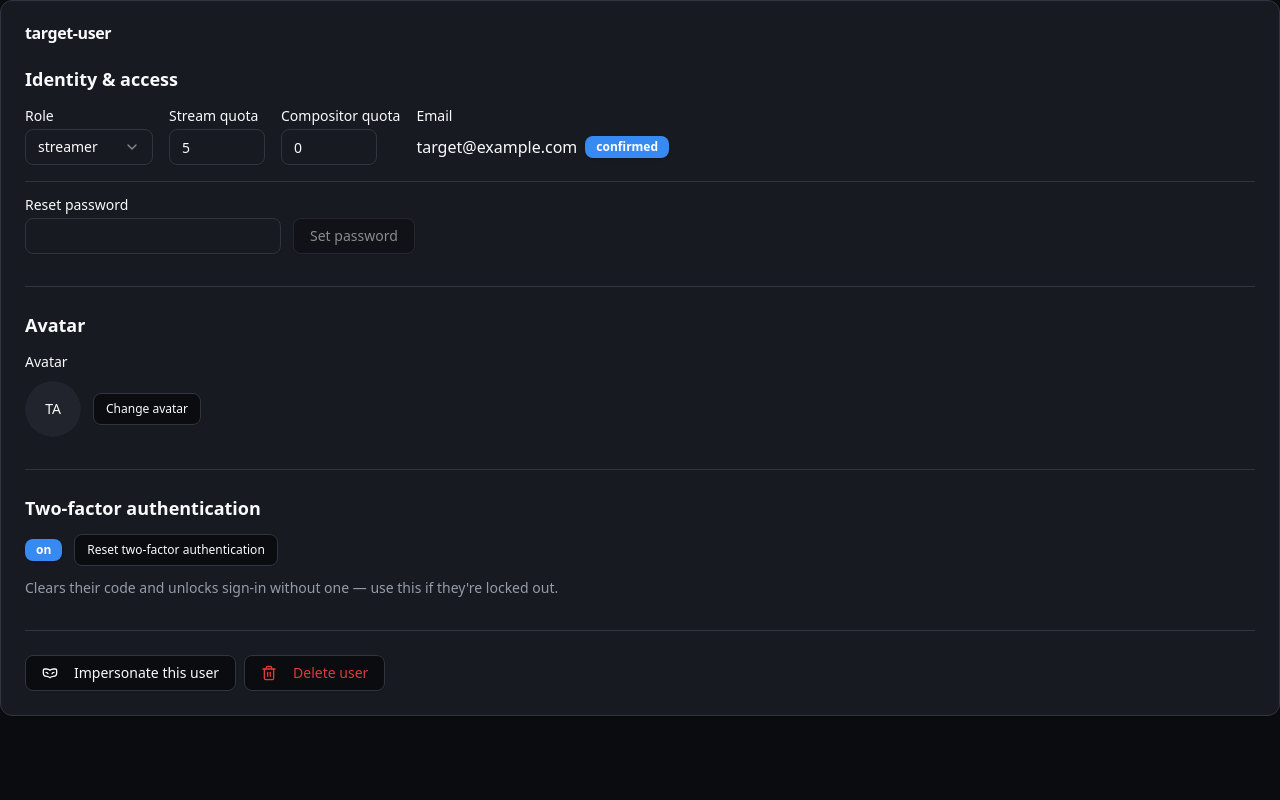
Test: AdminUserEditPage › resets the password, requiring a non-empty value
The width and height of the screenshot is (1280, 800).
Expected: the button "Set password" is disabled, x1=293 y1=218 x2=415 y2=254
Type "new-horse-battery-2" into the password field labelled "Reset password" at (153, 236), box x1=25 y1=218 x2=281 y2=254
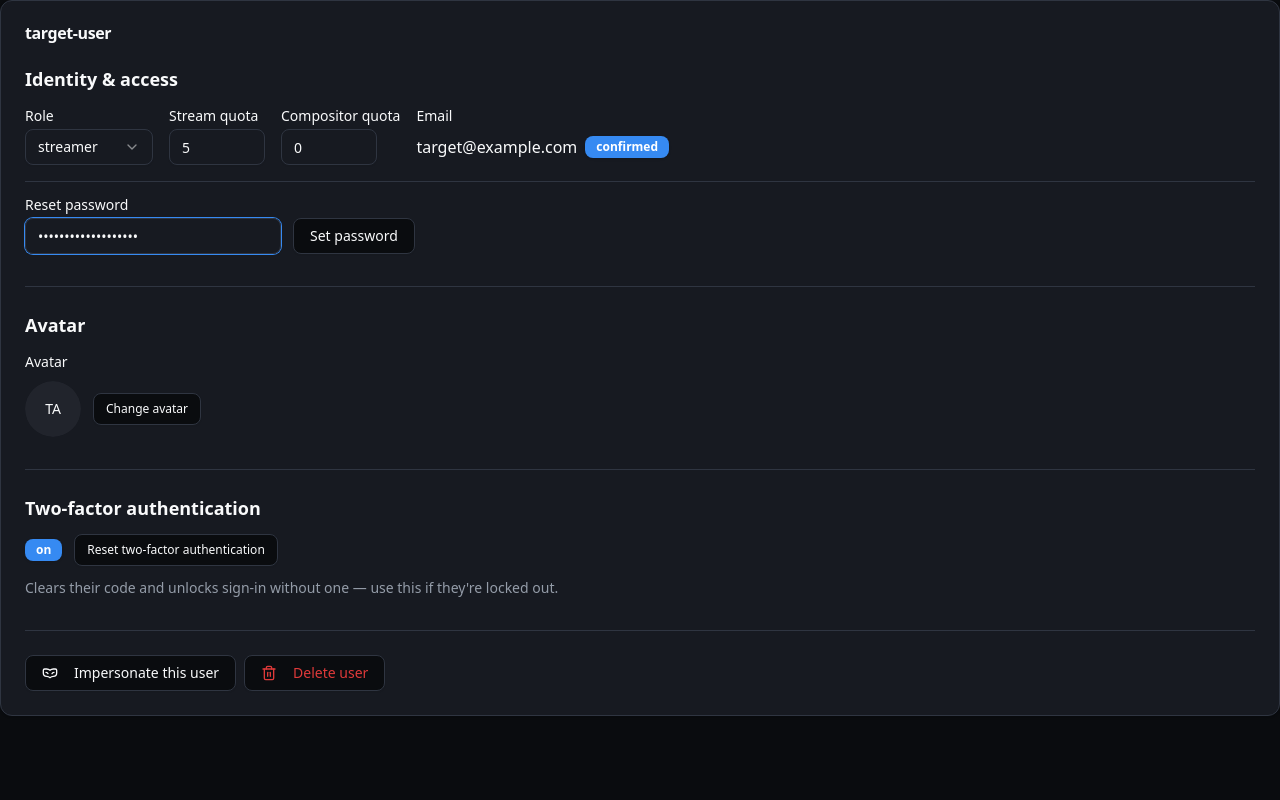
Expected: the button "Set password" is enabled
Click the button "Set password" at (354, 236), box x1=293 y1=218 x2=415 y2=254
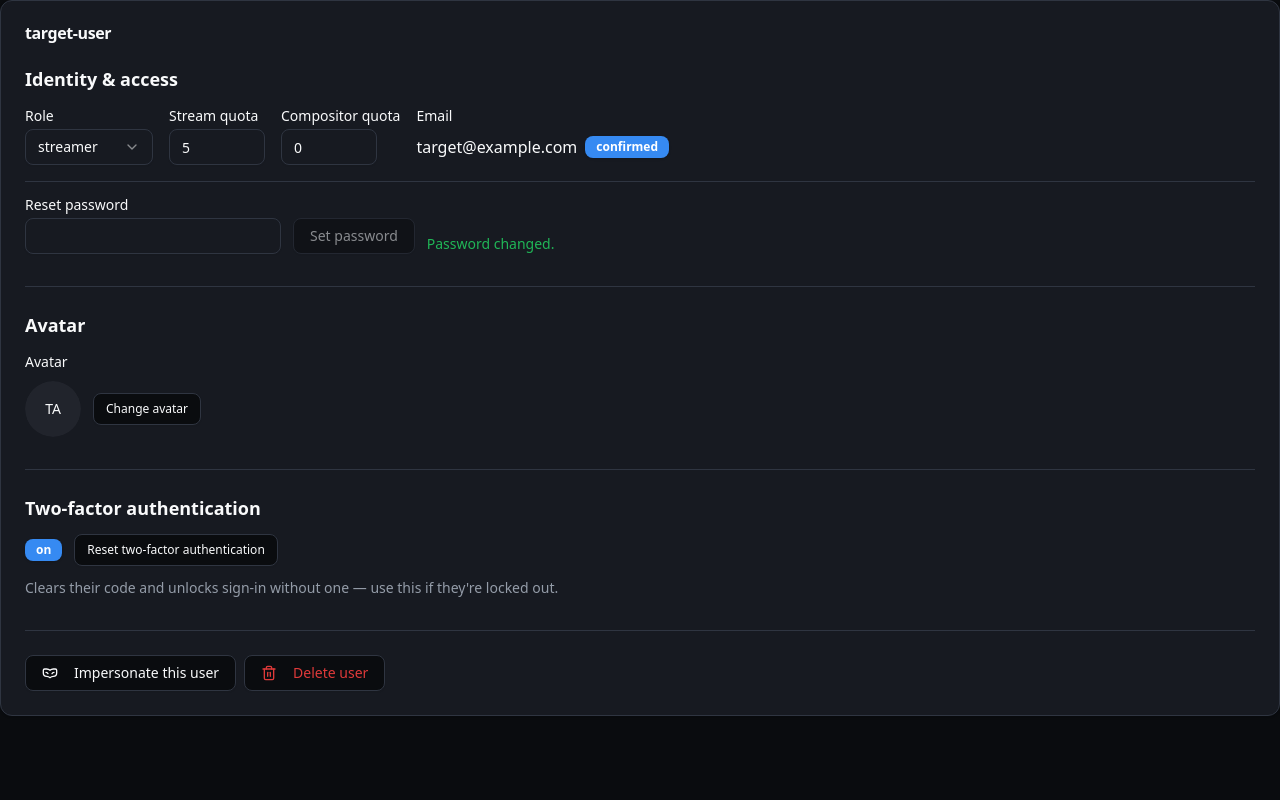
Expected: the text "Password changed." is shown, x1=427 y1=234 x2=554 y2=254
